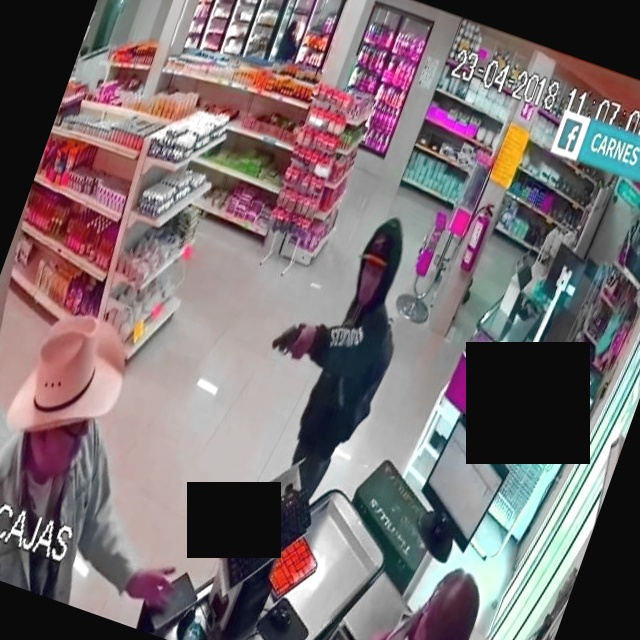gun: (250, 289, 324, 390)
